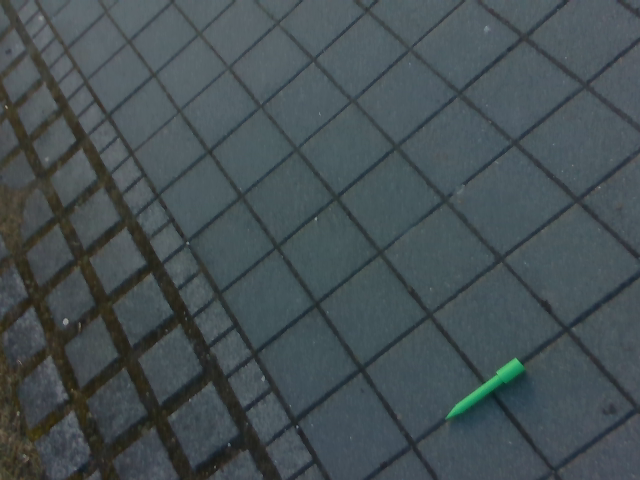Probe: (439, 352, 528, 429)
